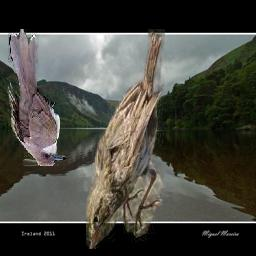Cuckoo: (8, 30, 65, 167)
Sparrow: (87, 29, 166, 249)
